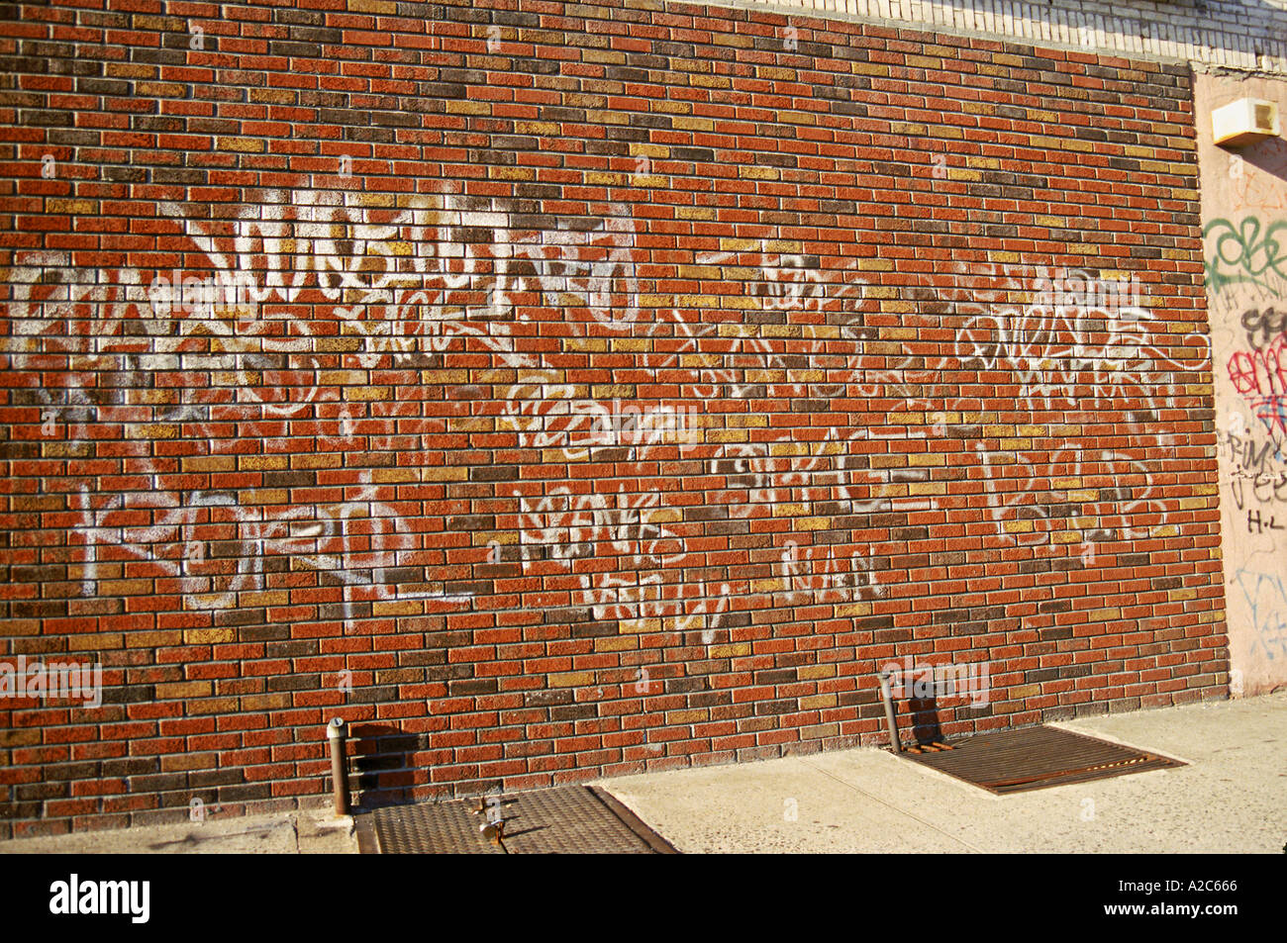Wall: (13, 19, 1205, 692)
